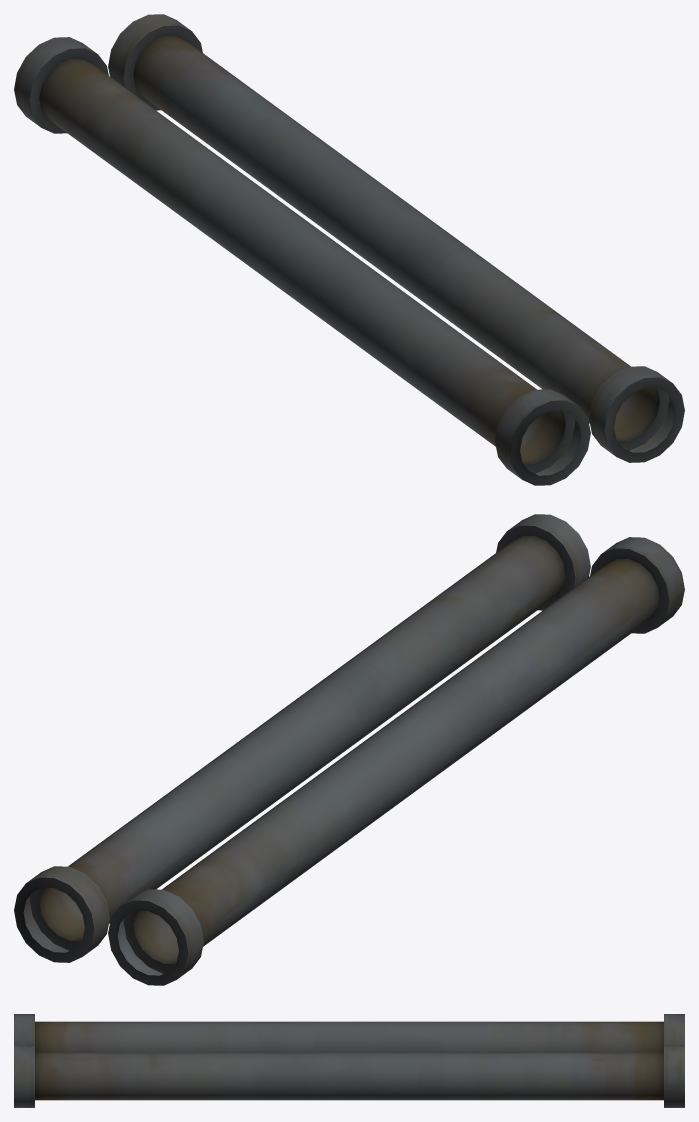
Rendered from props_hydro_2pipe_straight_64.glb.
The picture shows the model from 3 angles, top to bottom: view 1: azimuth 30°, elevation 25°; view 2: azimuth 150°, elevation 25°; view 3: azimuth 270°, elevation 25°; orthographic projection. The views are drawn at different scales.
Visible parts, largest first — view 1: models/props_hydro/2pipe_straight_64; view 2: models/props_hydro/2pipe_straight_64; view 3: models/props_hydro/2pipe_straight_64.
Part boxes in pixels (x1,y1,x2,y2): models/props_hydro/2pipe_straight_64: (14,14,684,485); models/props_hydro/2pipe_straight_64: (14,514,684,985); models/props_hydro/2pipe_straight_64: (14,1014,684,1107).
Size of the model in its own units: 12.99 by 5.99 by 64.
1 material, 1 textured.
